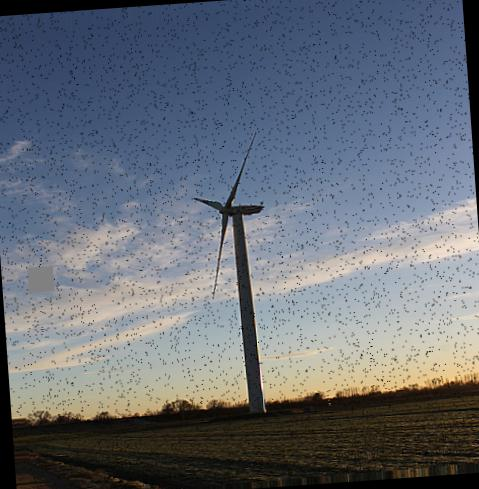wind turbine: (194, 133, 267, 416)
